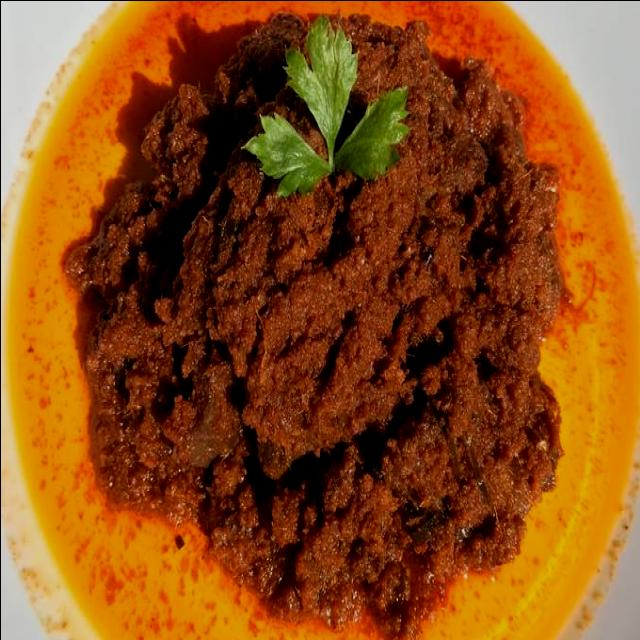rendang: (62, 12, 562, 640)
